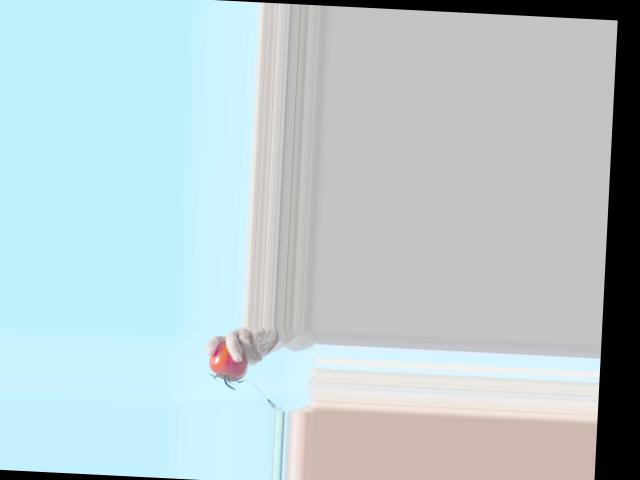tomato: (207, 341, 248, 381)
